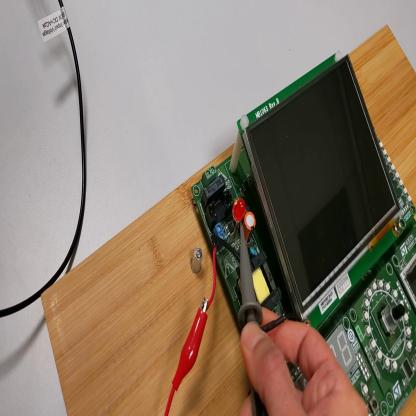hand: (239, 317, 371, 416)
low voltage board: (192, 49, 416, 416)
oscilloscope probe tip: (240, 221, 268, 416)
working area: (42, 28, 416, 414)
